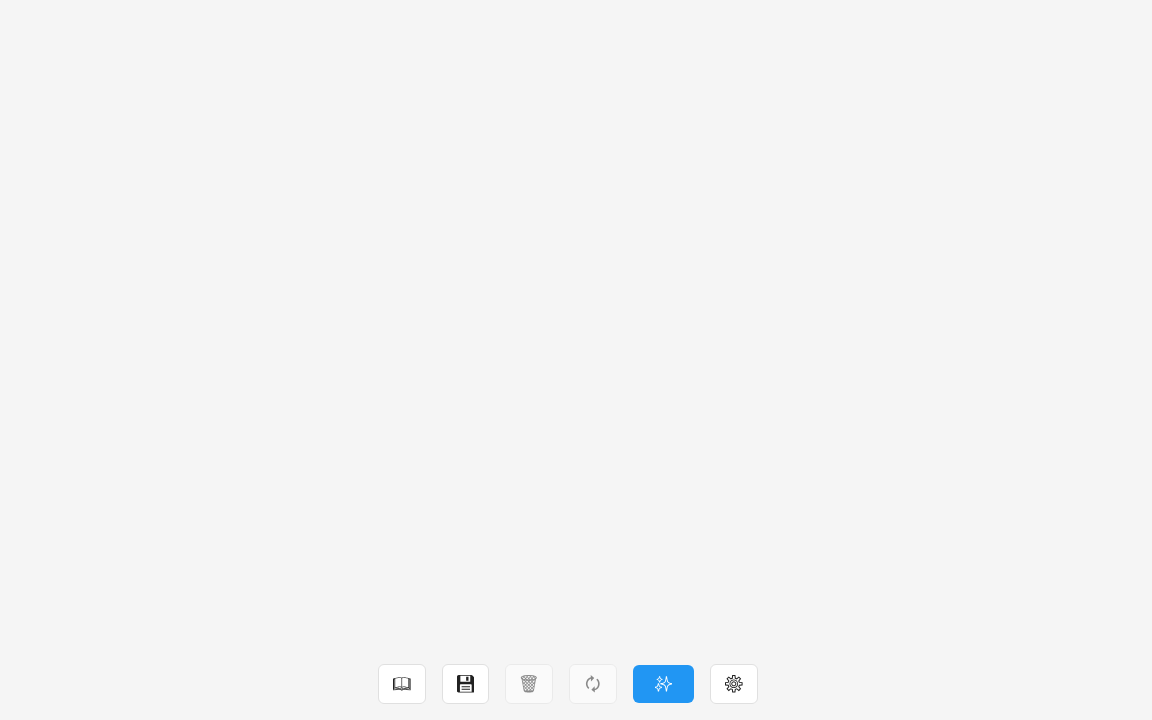
Test: Text.vue › reroll (api#5) › refuses to generate when the post-deletion save fails, naming Ctrl+Z
This screenshot has width=1152, height=720.
(page scrolled)
Click the button named "Generate". click: (663, 684)
box: [633,665,694,703]
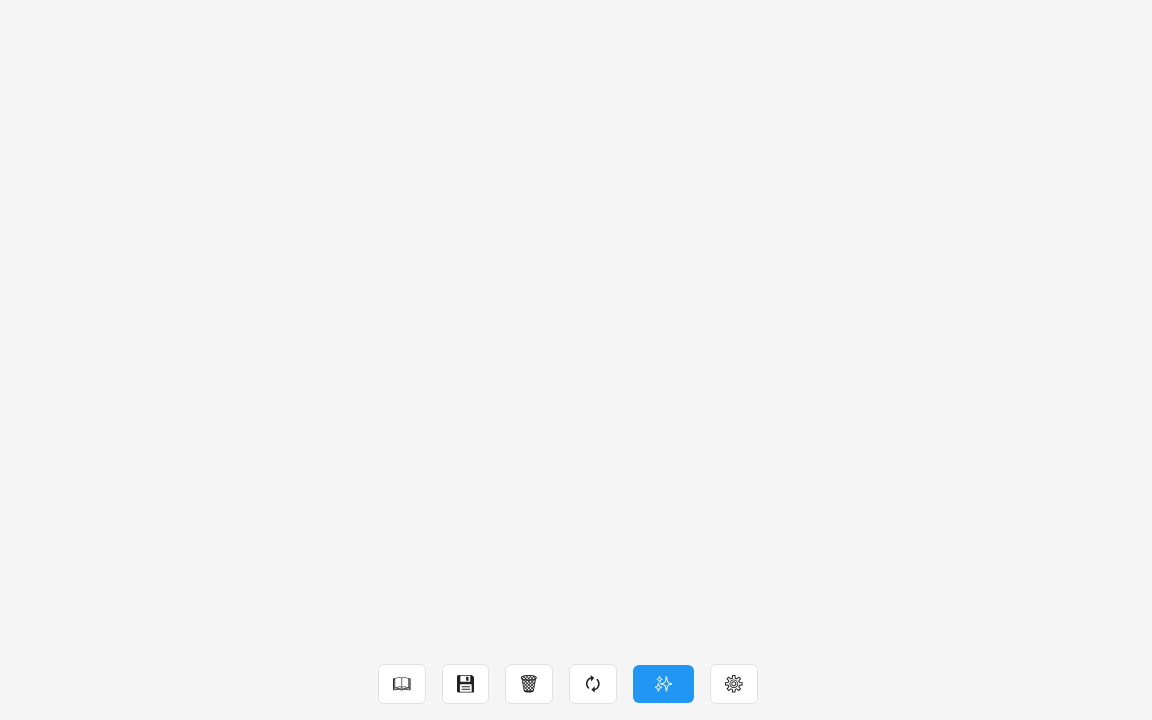
Click the button named "Reroll". click: (593, 684)
box: [569,664,617,704]
(page scrolled)
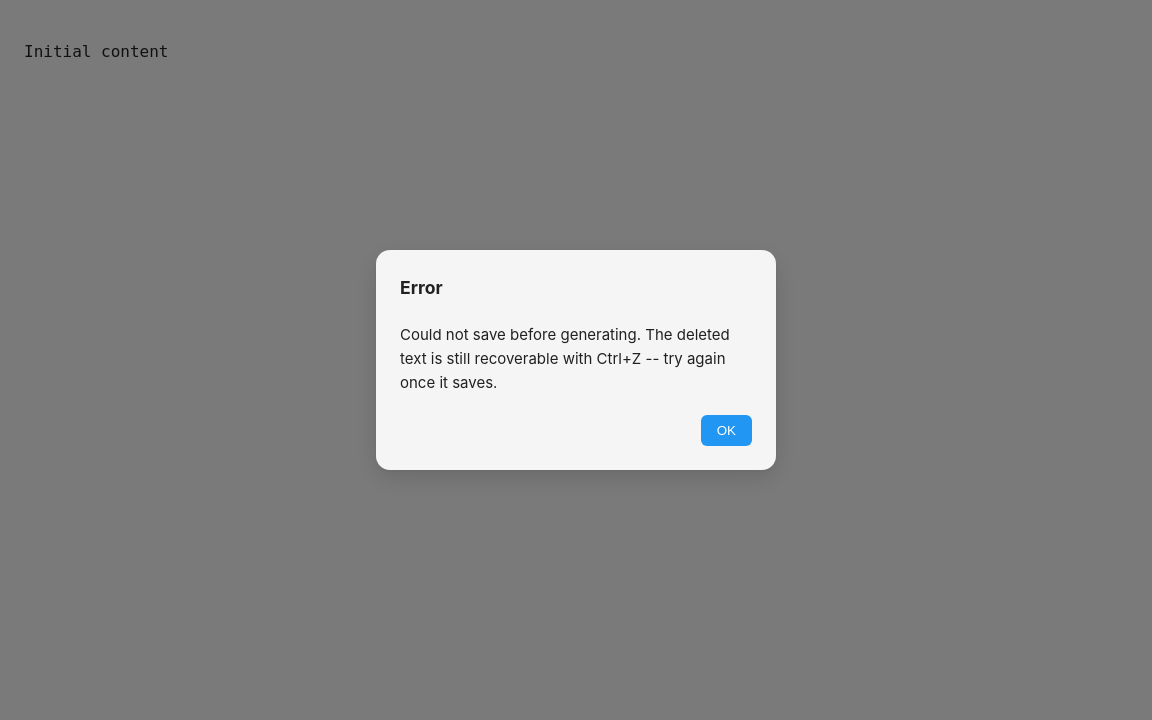
Now the field labelled "Initial content" is shown
